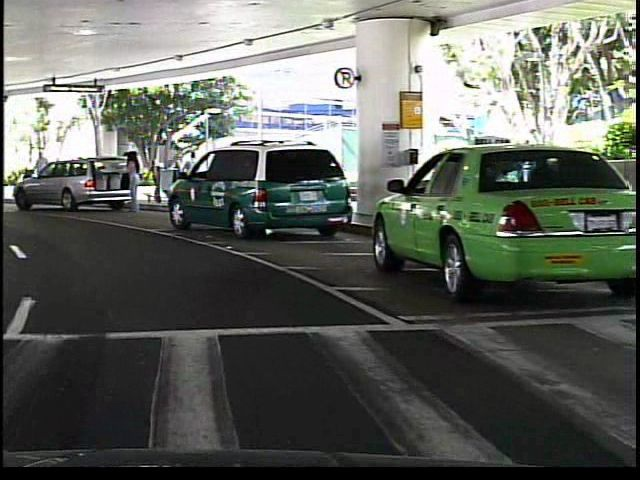person: (142, 154, 166, 212), (121, 147, 140, 217), (26, 147, 51, 199)
